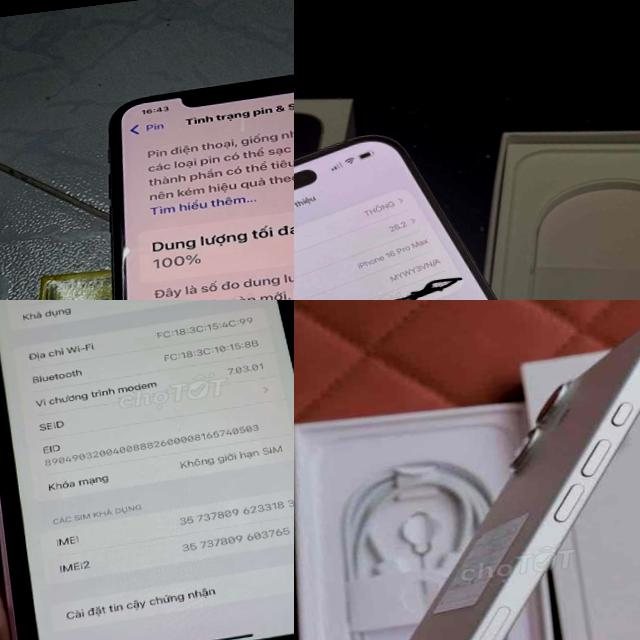gen_16: (294, 310, 640, 640), (294, 136, 497, 300)
gen_x_xs: (0, 300, 294, 640), (80, 56, 294, 300)
